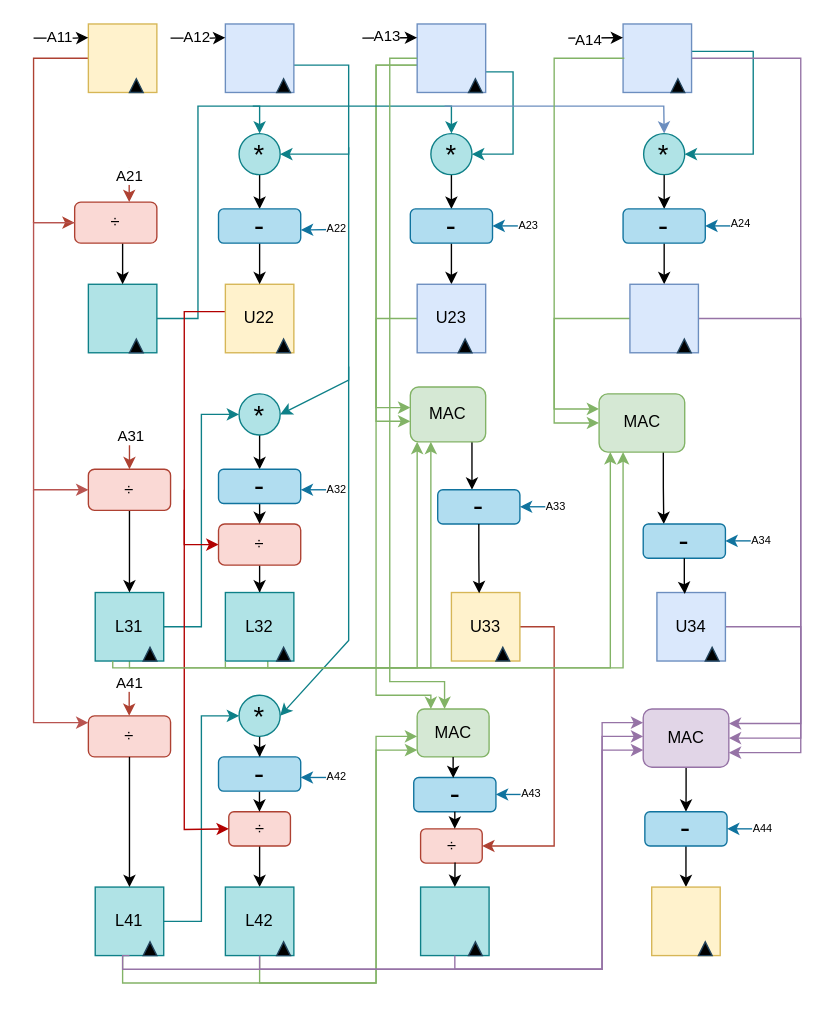
Image size: 836x1018. Some labels were removed from this diagram. Here are the shapes that lost their labels. From the top down, the box of each, then its label:
(87, 23, 157, 92): U11
(224, 23, 294, 92): U12
(416, 23, 486, 92): U13
(622, 23, 692, 92): U14
(87, 283, 157, 353): L21
(629, 283, 698, 353): U24
(419, 886, 489, 956): L43
(650, 886, 720, 956): U44
